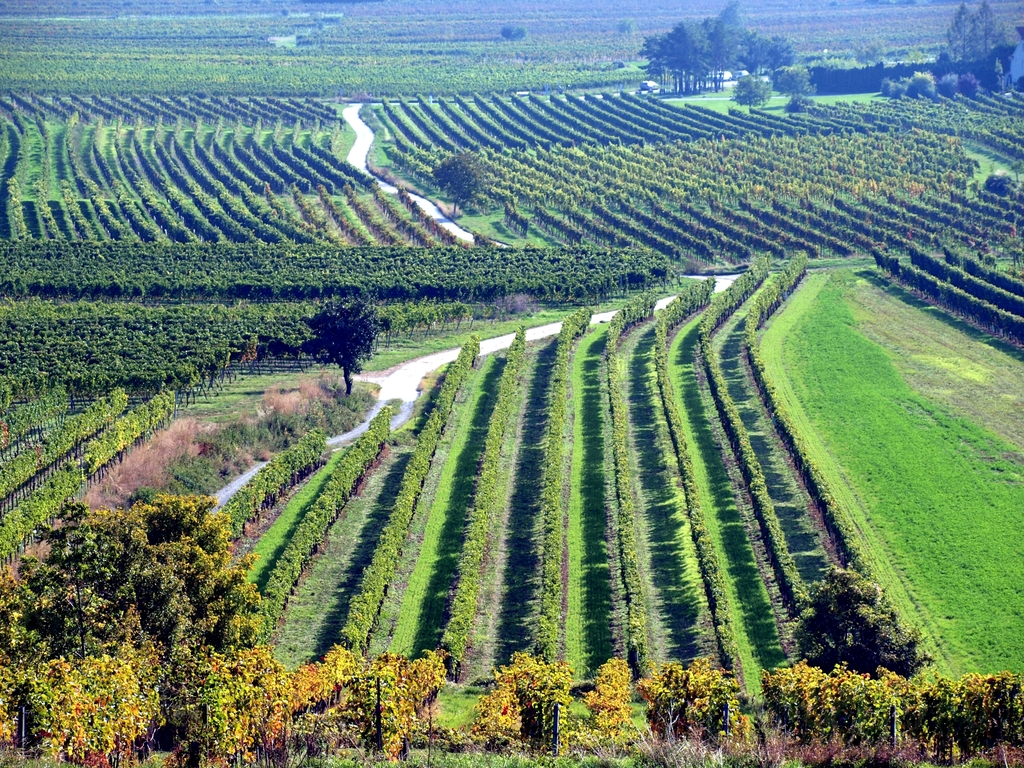Tree: (0, 486, 274, 755), (776, 565, 933, 682), (630, 0, 800, 95), (290, 293, 392, 399), (429, 144, 506, 224), (868, 62, 1006, 103), (937, 0, 1014, 65), (720, 71, 774, 109), (482, 19, 538, 49)
